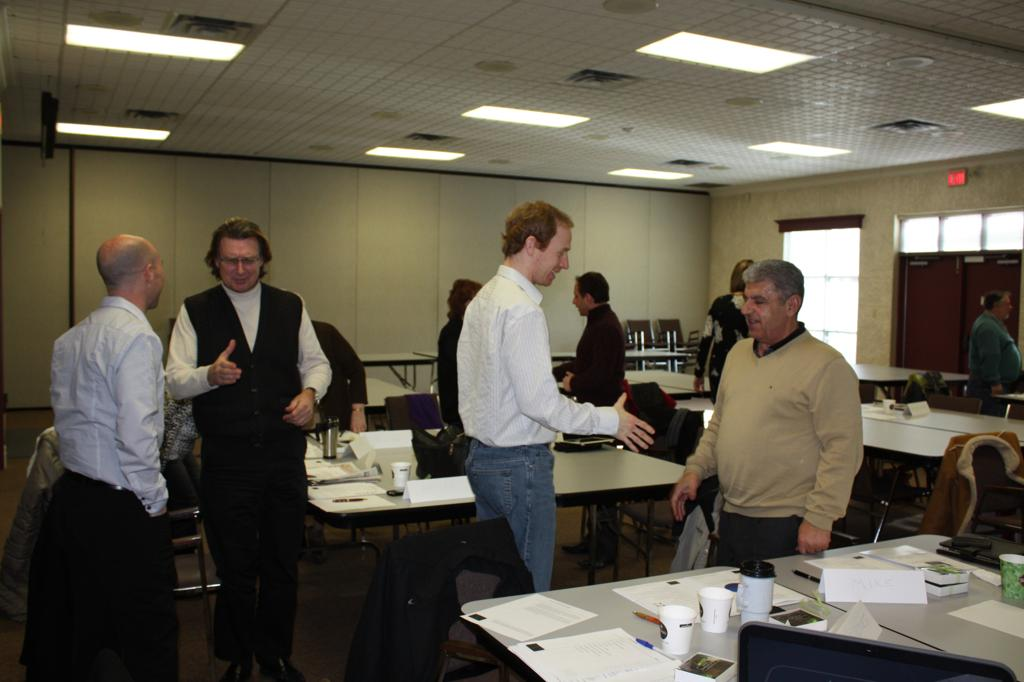face: (741, 281, 784, 337), (219, 238, 259, 291), (536, 229, 571, 285), (144, 254, 166, 304), (572, 283, 590, 311), (998, 296, 1011, 319)
